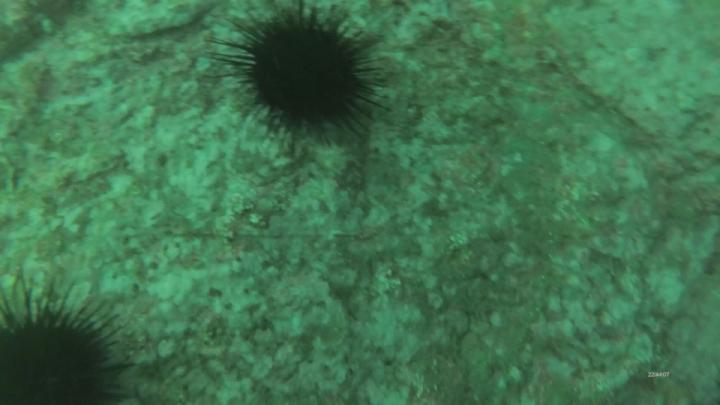echinus: (203, 2, 393, 155), (1, 280, 139, 405)
